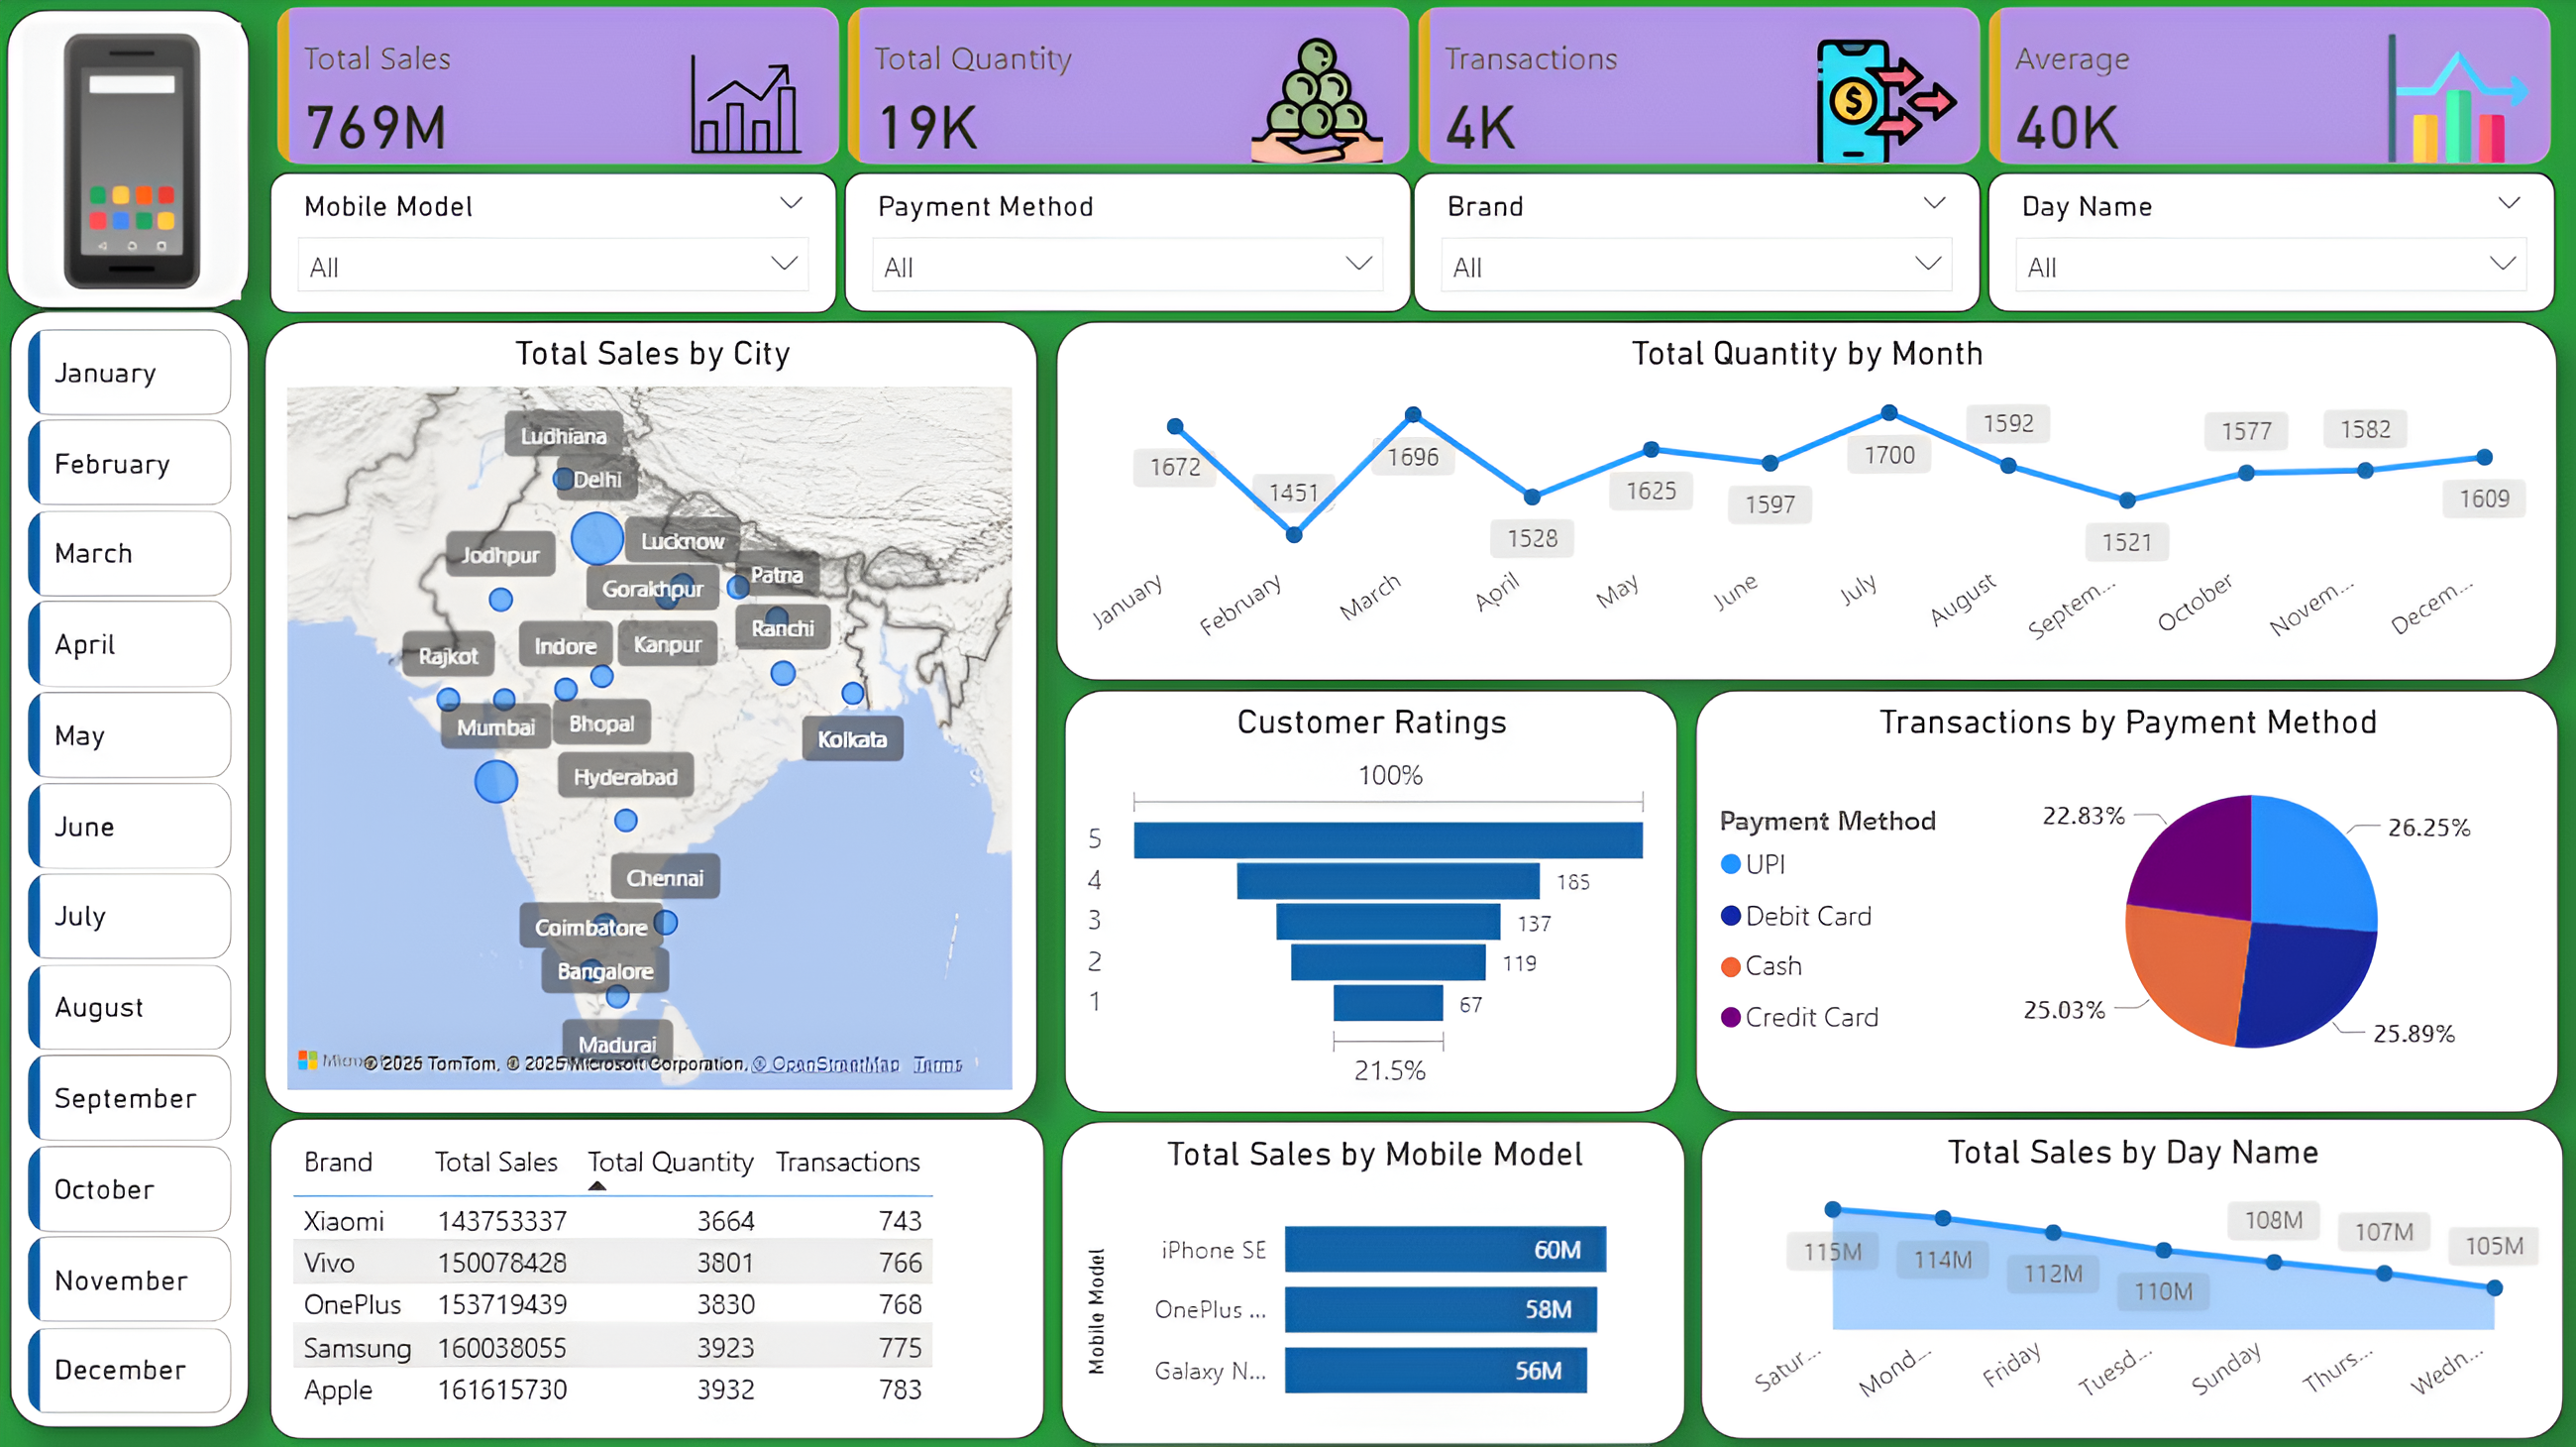

Layout of this report page (visuals, bound fields, positions):
{"tool":"powerbi","page":{"name":"Page 1","canvas":[1280,720],"ordinal":0},"visuals":[{"type":"shape","box":[5.5,6.9,120.8,148.2],"z":0},{"type":"shape","box":[6.9,156.4,119.4,554.4],"z":1000},{"type":"advancedSlicerVisual","fields":{"Values":["Sales_Data.Date.Variation.Date Hierarchy.Month"]},"box":[11,160.5,111.1,548.9],"z":2000},{"type":"cardVisual","fields":{"Data":["Sales_Data.Total Sales","Sales_Data.Total Quantity","Sales_Data.Transactions","Sales_Data.Average"]},"box":[134,5.6,1140.1,83.7],"z":3000},{"type":"map","fields":{"Category":["Sales_Data.City"],"Size":["Sales_Data.Total Sales"]},"box":[132.9,160.8,384.1,393.1],"z":4000},{"type":"lineChart","fields":{"Y":["Sales_Data.Total Quantity"],"Category":["Sales_Data.Date.Variation.Date Hierarchy.Month","Sales_Data.Date.Variation.Date Hierarchy.Day"]},"box":[525.9,160.8,744.8,178.7],"z":5000},{"type":"clusteredBarChart","fields":{"Category":["Sales_Data.Mobile Model"],"Y":["Sales_Data.Total Sales"]},"box":[528.3,558.5,310.1,160.5],"z":6000},{"type":"pieChart","fields":{"Category":["Sales_Data.Payment Method"],"Y":["Sales_Data.Transactions"]},"box":[842.5,344.4,428.1,209.9],"z":7000},{"type":"funnel","title":"Customer Ratings","fields":{"Category":["Sales_Data.Customer Ratings"],"Y":["CountNonNull(Sales_Data.Customer Ratings)"]},"box":[529.7,344.4,304.6,209.9],"z":8000},{"type":"areaChart","fields":{"Category":["Sales_Data.Day Name"],"Y":["Sales_Data.Total Sales"]},"box":[845.3,557.1,428.1,159.2],"z":9000},{"type":"tableEx","fields":{"Values":["Sales_Data.Brand","Sales_Data.Total Sales","Sales_Data.Total Quantity","Sales_Data.Transactions"]},"box":[135.8,557.1,384.2,159.2],"z":10000},{"type":"slicer","fields":{"Values":["Sales_Data.Mobile Model"]},"box":[136.2,87.1,281.4,70.3],"z":11000},{"type":"slicer","fields":{"Values":["Sales_Data.Payment Method"]},"box":[421,87.1,281.4,69.2],"z":12000},{"type":"slicer","fields":{"Values":["Sales_Data.Brand"]},"box":[703.5,87.1,281.4,69.2],"z":13000},{"type":"slicer","fields":{"Values":["Sales_Data.Day Name"]},"box":[988.2,87.1,281.4,69.2],"z":14000},{"type":"image","box":[5.4,8.1,125,147.9],"z":15000}]}

Visuals, with their boxes in screenshot pixels (x1, y1, x2, y2), scaled from the page's 1280x720 canvas onto the 2576x1447 screenshot:
shape: <box>11,14,255,312</box>
shape: <box>14,314,255,1428</box>
advancedSlicerVisual - Sales_Data.Date.Variation.Date Hierarchy.Month: <box>22,322,246,1426</box>
cardVisual - Sales_Data.Total Sales x Sales_Data.Total Quantity: <box>269,11,2564,179</box>
map - Sales_Data.City x Sales_Data.Total Sales: <box>268,323,1040,1113</box>
lineChart - Sales_Data.Total Quantity x Sales_Data.Date.Variation.Date Hierarchy.Month: <box>1058,323,2557,682</box>
clusteredBarChart - Sales_Data.Mobile Model x Sales_Data.Total Sales: <box>1063,1123,1687,1445</box>
pieChart - Sales_Data.Payment Method x Sales_Data.Transactions: <box>1695,692,2557,1114</box>
"Customer Ratings" funnel: <box>1066,692,1679,1114</box>
areaChart - Sales_Data.Day Name x Sales_Data.Total Sales: <box>1701,1120,2563,1439</box>
tableEx - Sales_Data.Brand x Sales_Data.Total Sales: <box>273,1120,1046,1439</box>
slicer - Sales_Data.Mobile Model: <box>274,175,840,316</box>
slicer - Sales_Data.Payment Method: <box>847,175,1414,314</box>
slicer - Sales_Data.Brand: <box>1416,175,1983,314</box>
slicer - Sales_Data.Day Name: <box>1988,175,2555,314</box>
image: <box>11,16,263,313</box>
